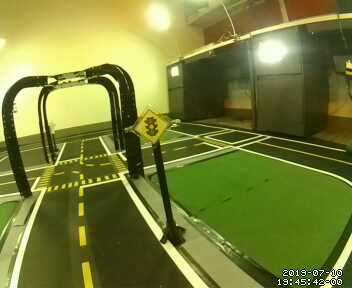Traffic light sign: (133, 109, 170, 144)
